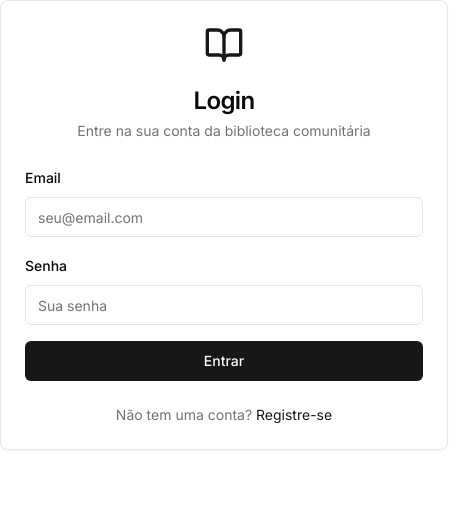
Test case: LoginForm › deve mostrar erro para email inválido
Note: Encontra o campo de email e digita um valor inválido
Type "emailinvalido" into the field with placeholder "seu@email.com".
click(224, 217); type("emailinvalido")  # box [25,197,423,237]
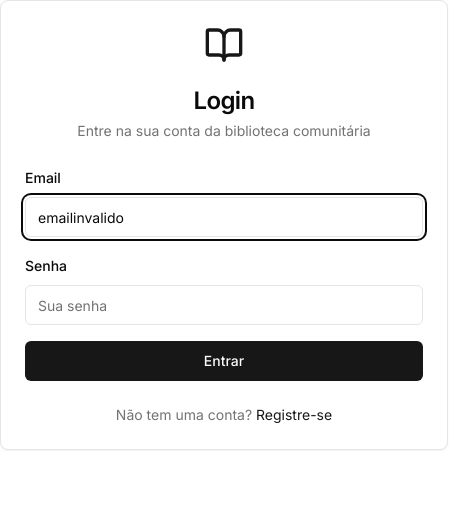
Note: Tenta submeter o formulário
Click the button "Entrar".
click(224, 361)  # box [25,341,423,381]
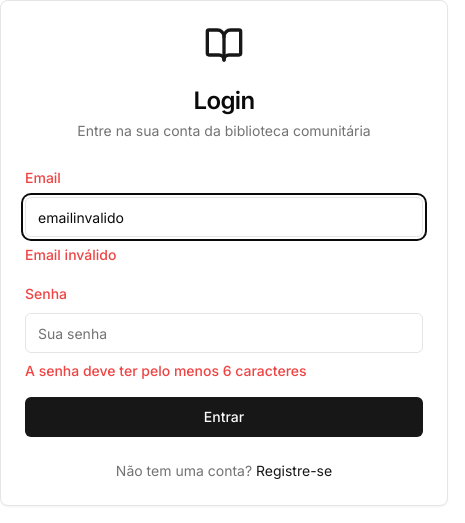
Now the text "Email inválido" is shown, box [25,246,116,263]
